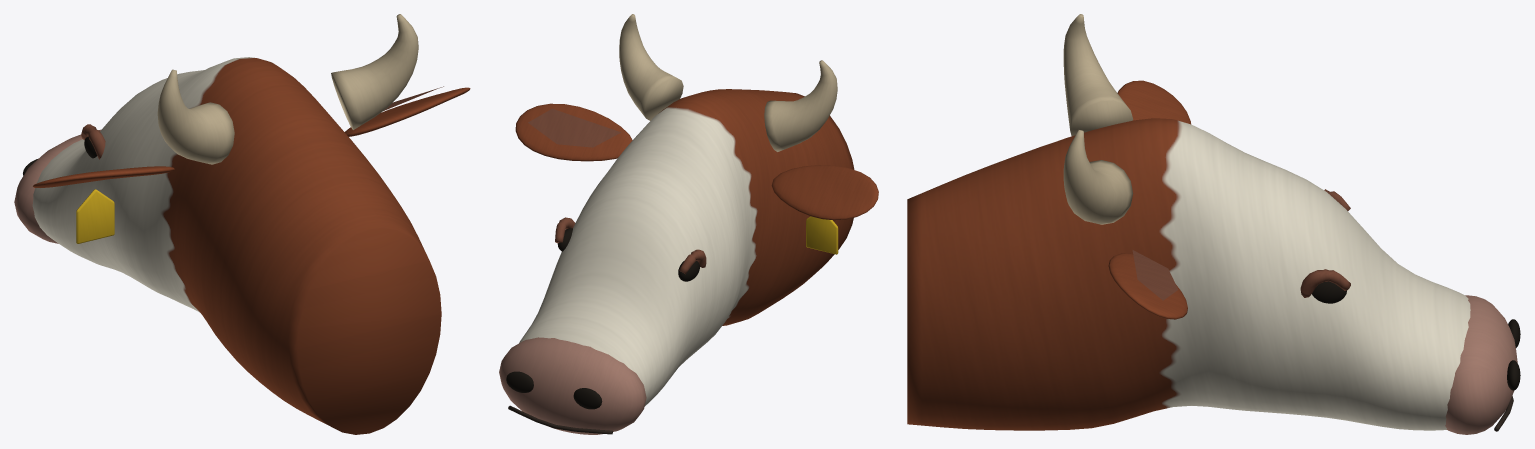
File: SM_Cow_Alive_Head.fbx
The picture shows the model from 3 angles, left to right: view 1: azimuth 30°, elevation 25°; view 2: azimuth 150°, elevation 25°; view 3: azimuth 270°, elevation 25°; orthographic projection. The views are drawn at different scales.
Parts seen in each view (by area): view 1: SM_Cow_Alive_Head.001; view 2: SM_Cow_Alive_Head.001; view 3: SM_Cow_Alive_Head.001.
Part boxes in pixels (<box>): SM_Cow_Alive_Head.001: <box>14,14,470,434</box>; SM_Cow_Alive_Head.001: <box>499,14,878,434</box>; SM_Cow_Alive_Head.001: <box>907,14,1520,434</box>.
Size of the model in its own units: 1.02 by 1.2 by 0.7606.
